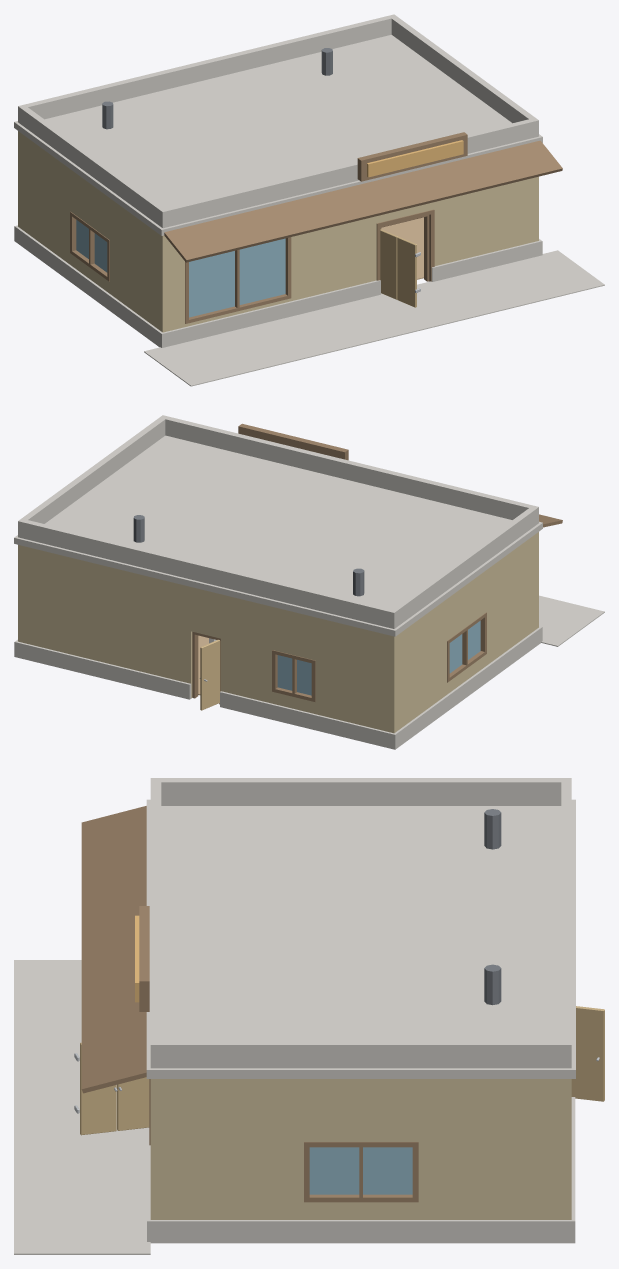
File: 商铺C.fbx
3 renders of one model, top to bottom at view 1: azimuth 30°, elevation 25°; view 2: azimuth 150°, elevation 25°; view 3: azimuth 270°, elevation 25°, orthographic. The views are drawn at different scales.
Visible parts, largest first — view 1: 屋顶板, 铺装_人行道, 雨棚, 女儿墙_北, 外墙_南_4_0.002, 外墙_南_2_0.002, 女儿墙_南, 橱窗_玻璃, 外墙_西_0_0.002, 外墙_西_2_0.002, 墙裙_南_左.002, 女儿墙_西 (+12 smaller); view 2: 屋顶板, 外墙_北_4_0.002, 外墙_北_0_0.002, 女儿墙_北, 女儿墙_南, 外墙_北_2_0.002, 外墙_西_2_0.002, 外墙_西_0_0.002, 女儿墙_西, 女儿墙_东, 墙裙_北_右.002, 墙裙_北_左.002 (+13 smaller); view 3: 屋顶板, 铺装_人行道, 外墙_东_0_0.002, 外墙_东_2_0.002, 雨棚, 女儿墙_东, 女儿墙_西, 墙裙_东.002, 外墙_东_1_220, 侧窗_东_玻璃, 门扇.004, 女儿墙_南 (+10 smaller).
Part boxes in pixels (x1,y1,x2,y2): 屋顶板: (14,34,542,235); 铺装_人行道: (144,250,604,386); 雨棚: (164,140,562,262); 女儿墙_北: (18,14,395,123); 外墙_南_4_0.002: (431,176,538,265); 外墙_南_2_0.002: (288,215,379,301); 女儿墙_南: (159,117,538,228); 橱窗_玻璃: (189,238,285,317); 外墙_西_0_0.002: (108,197,157,328); 外墙_西_2_0.002: (23,135,72,265); 墙裙_南_左.002: (163,280,380,347); 女儿墙_西: (18,106,168,226); 屋顶板: (14,435,542,636); 外墙_北_4_0.002: (18,545,192,698); 外墙_北_0_0.002: (312,617,399,733); 女儿墙_北: (18,520,397,628); 女儿墙_南: (162,415,538,524); 外墙_北_2_0.002: (221,594,274,704); 外墙_西_2_0.002: (399,598,448,728); 外墙_西_0_0.002: (484,536,533,666); 女儿墙_西: (390,506,537,625); 女儿墙_东: (18,415,167,523); 墙裙_北_右.002: (17,641,191,699); 墙裙_北_左.002: (220,691,393,748); 屋顶板: (146,799,575,1078); 铺装_人行道: (14,960,150,1254); 外墙_东_0_0.002: (166,1079,308,1219); 外墙_东_2_0.002: (414,1079,555,1219); 雨棚: (81,806,146,1093); 女儿墙_东: (152,1040,570,1068); 女儿墙_西: (152,778,570,805); 墙裙_东.002: (147,1219,575,1243); 外墙_东_1_220: (308,1079,413,1141); 侧窗_东_玻璃: (309,1147,412,1194); 门扇.004: (80,1042,149,1135); 女儿墙_南: (150,778,161,1068).
Size of the model in its own units: 1446 by 475 by 1230.
